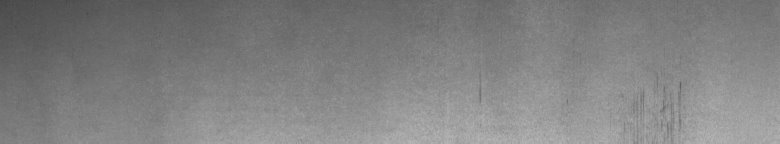ka: (641, 82, 688, 133)
